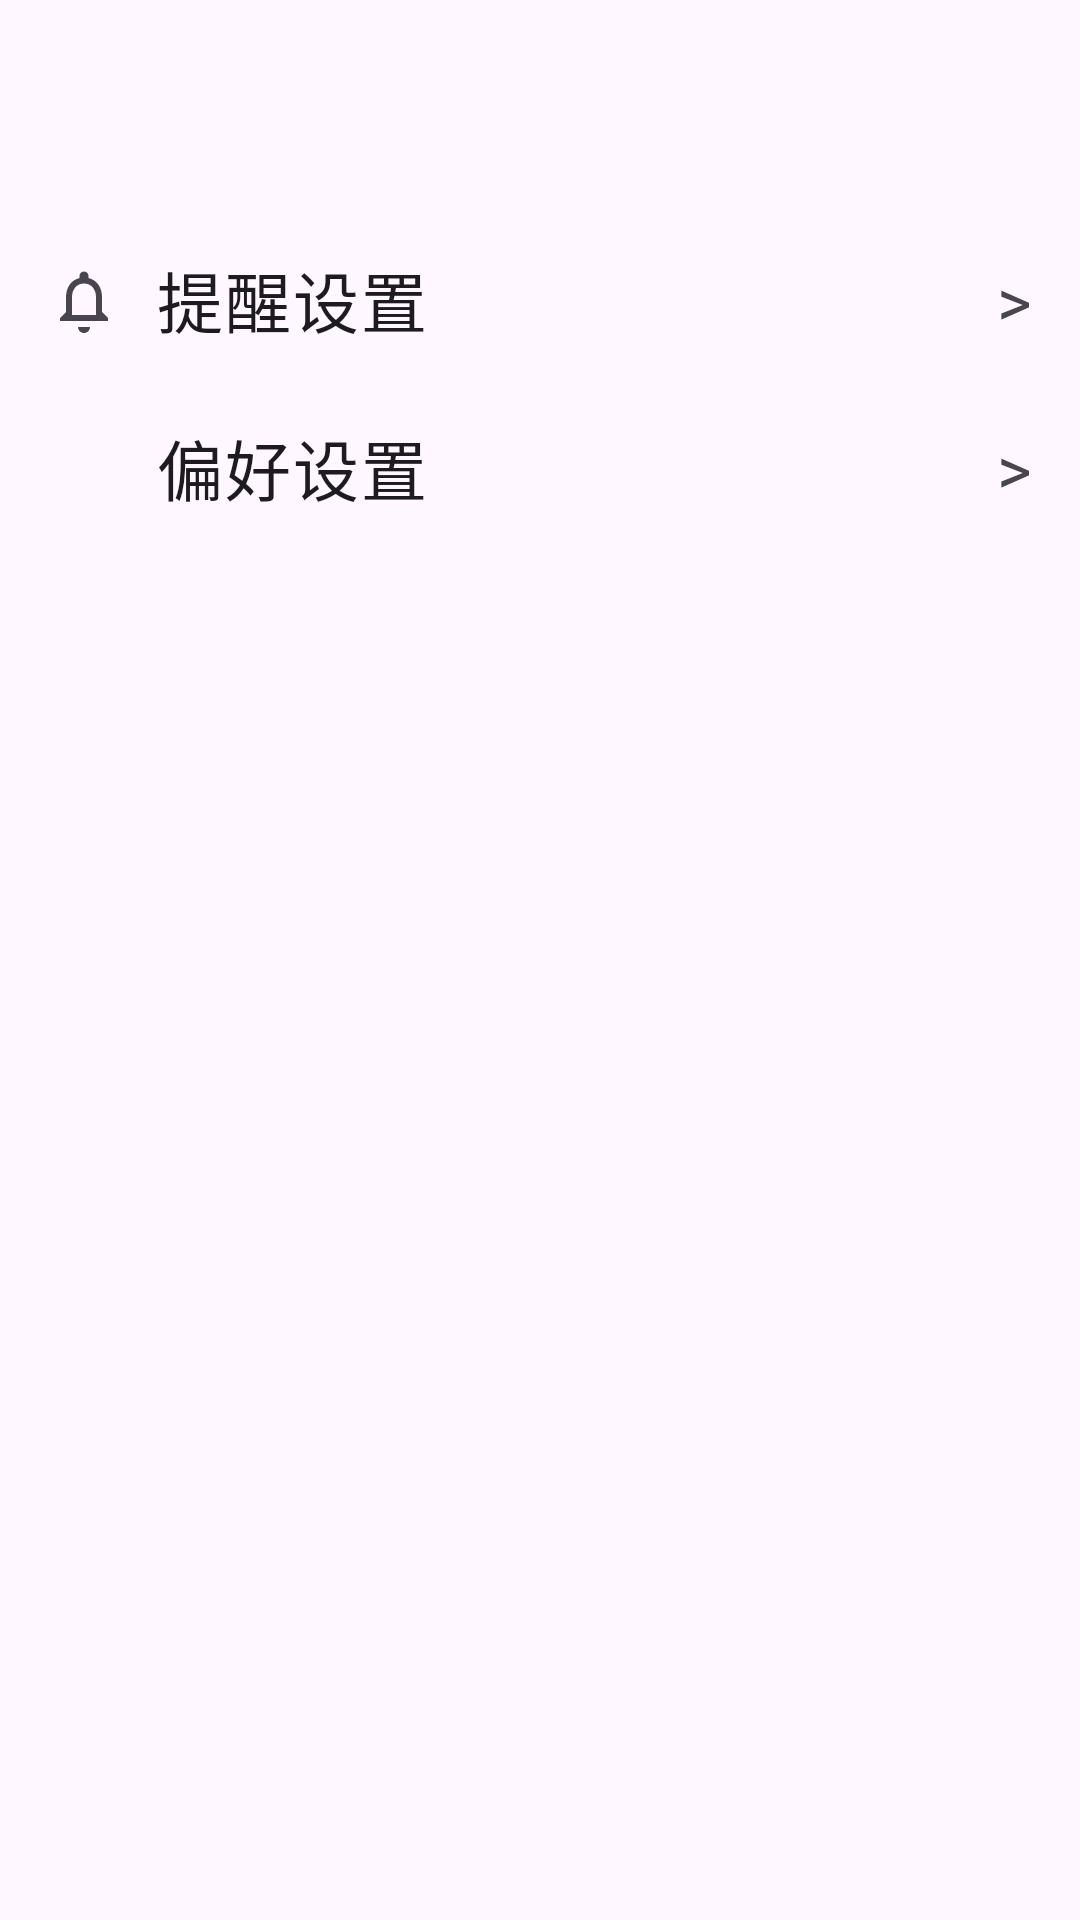

Named icons in this screenshot (1080×1920) and their centers, (x,y):
bell: (84,302)
